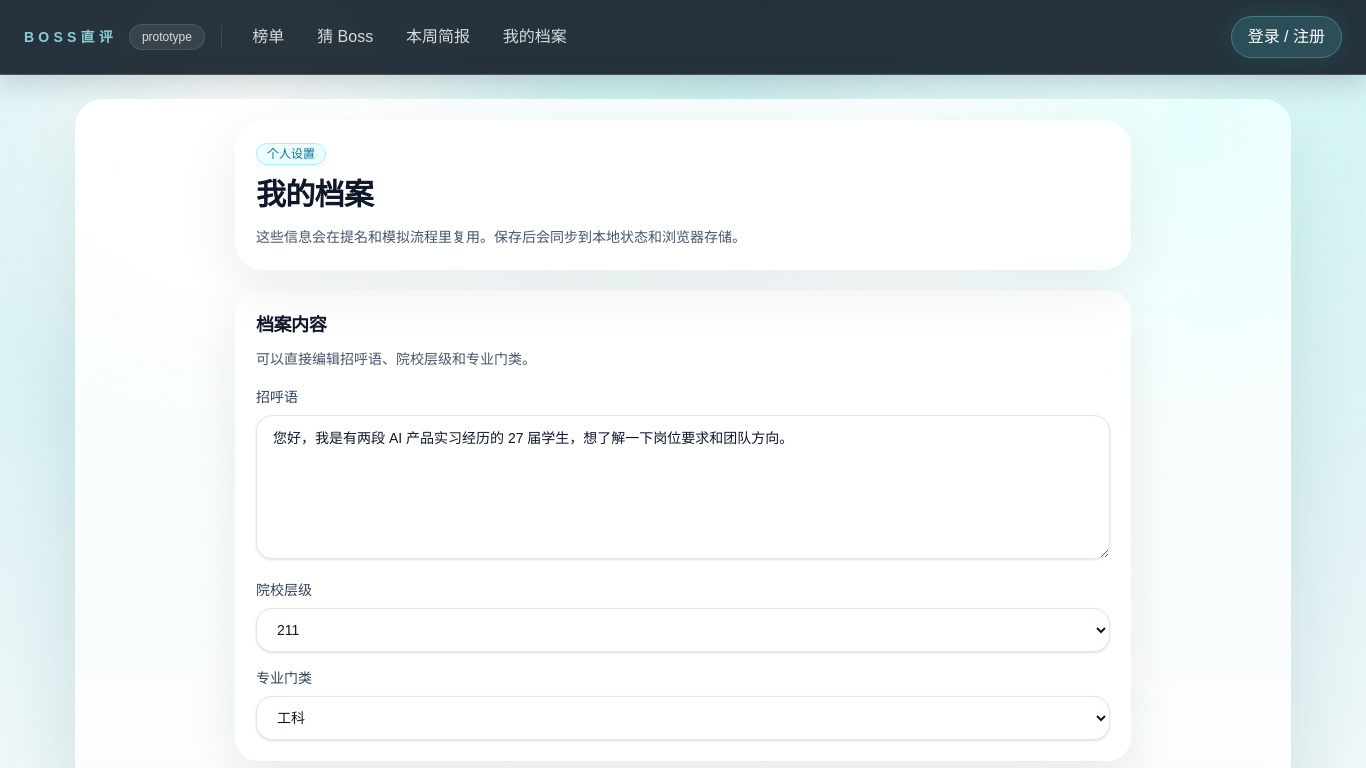
Test: nomination and settings flow › requires login before saving settings
The width and height of the screenshot is (1366, 768).
Replace the text in the text box labelled "招呼语" with "您好，我先看看设置页会不会直接保存。". click: x=683, y=487
box: [256,415,1110,559]
(page scrolled)
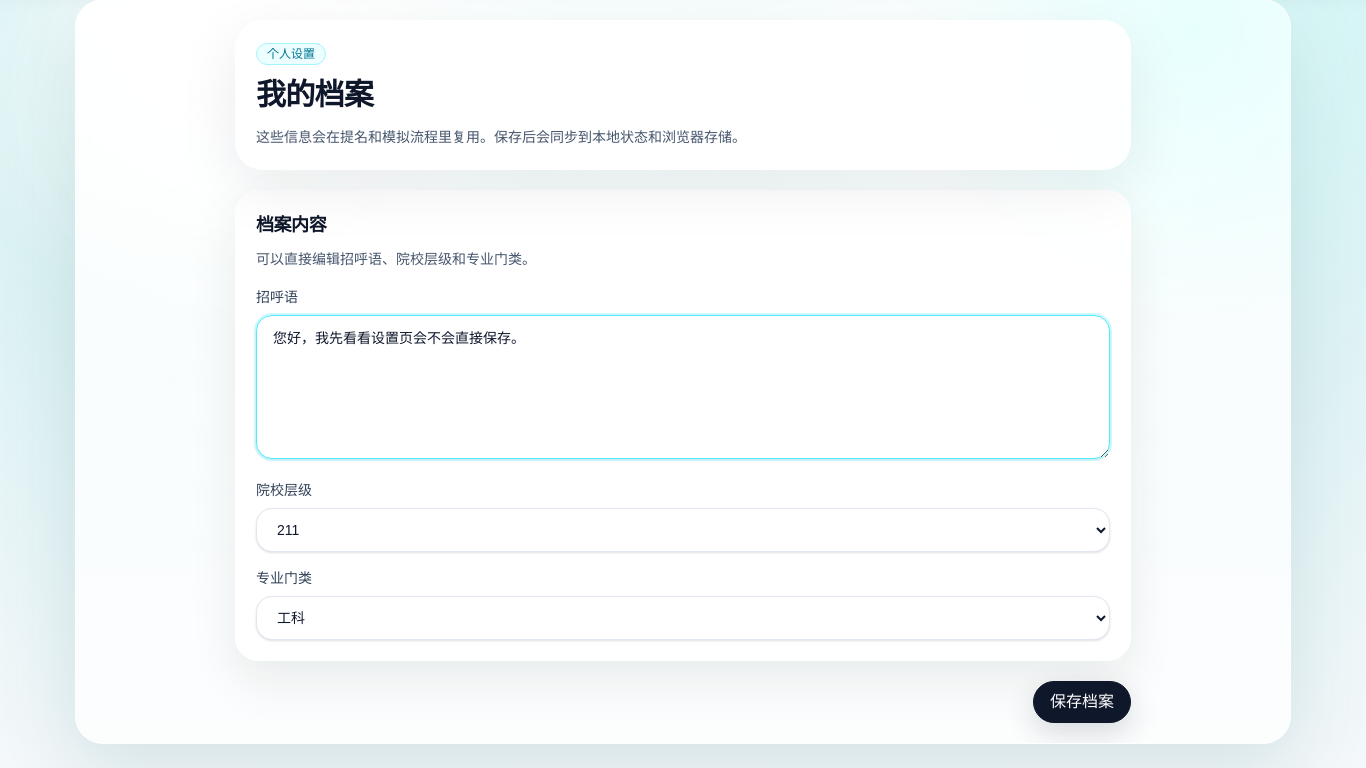
Click the button "保存档案". click: x=1082, y=702
box: [1033,681,1131,723]
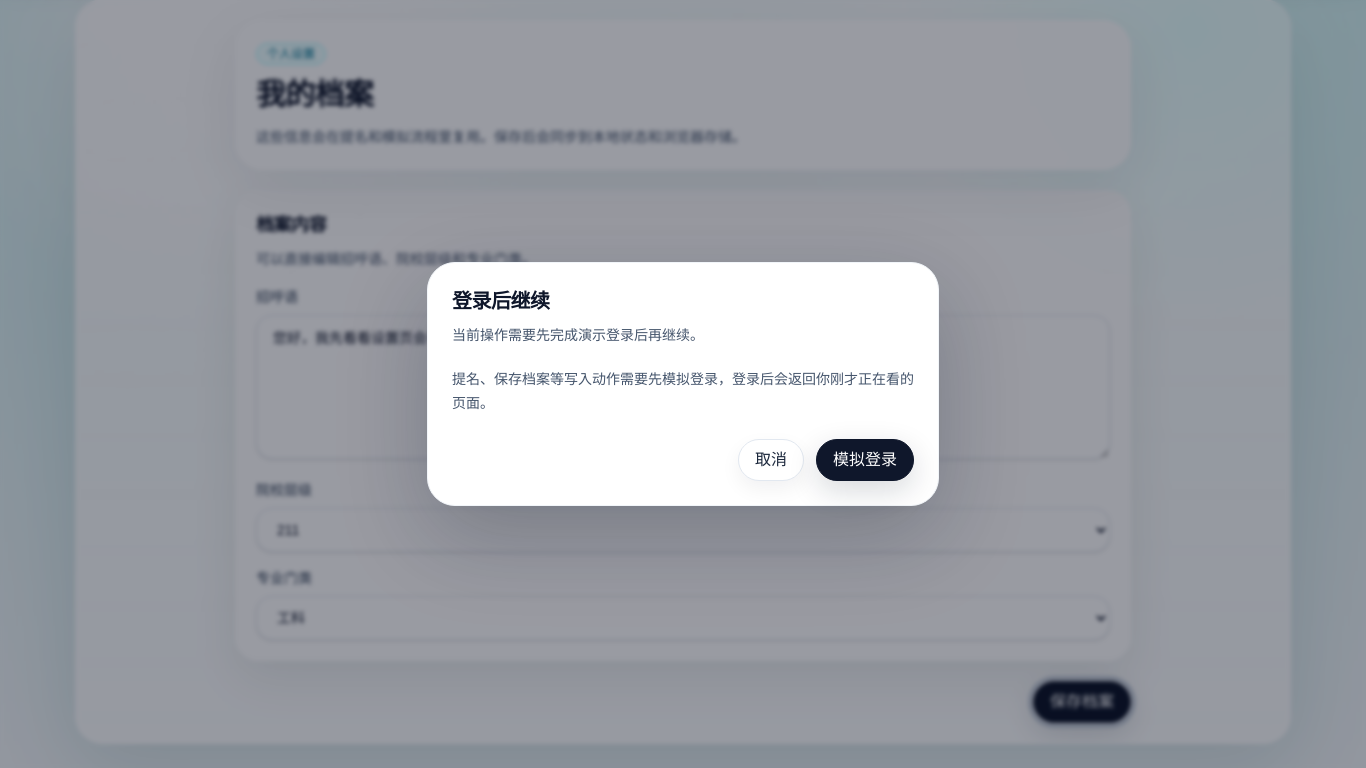
Now the dialog "登录后继续" is shown, box [427,262,939,506]
